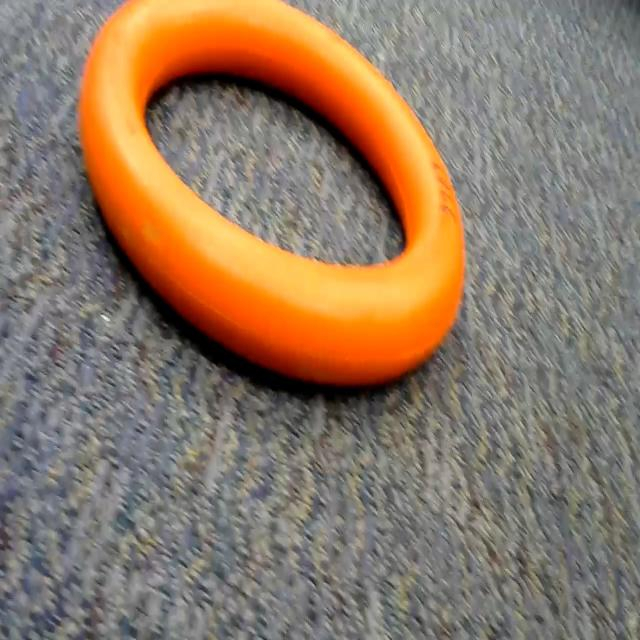note: (67, 0, 490, 411)
